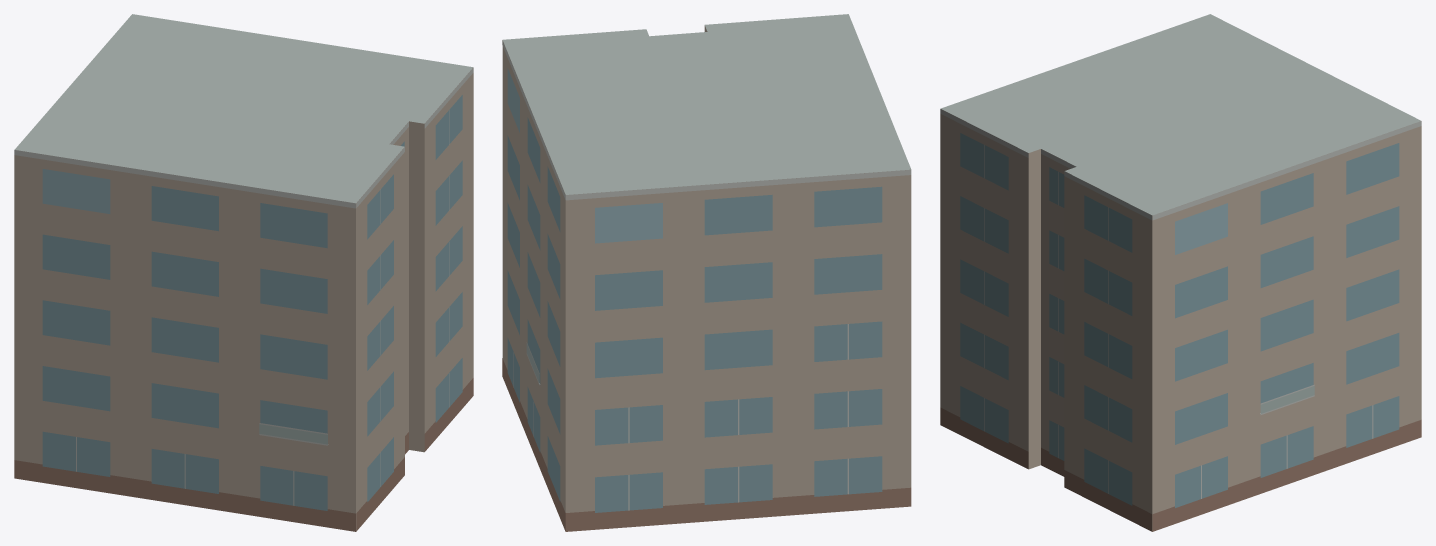
Rendered from survey-upis-33045599.glb.
3 renders of one model, left to right at view 1: azimuth 30°, elevation 25°; view 2: azimuth 150°, elevation 25°; view 3: azimuth 270°, elevation 25°, orthographic. The views are drawn at different scales.
Visible parts, largest first — view 1: survey-upis-33045599.tmp; view 2: survey-upis-33045599.tmp; view 3: survey-upis-33045599.tmp.
Boxes of the visible parts, <box> form: survey-upis-33045599.tmp: <box>14,14,473,531</box>; survey-upis-33045599.tmp: <box>502,14,911,531</box>; survey-upis-33045599.tmp: <box>940,14,1421,531</box>.
Size of the model in its own units: 20.98 by 15.35 by 21.17.
